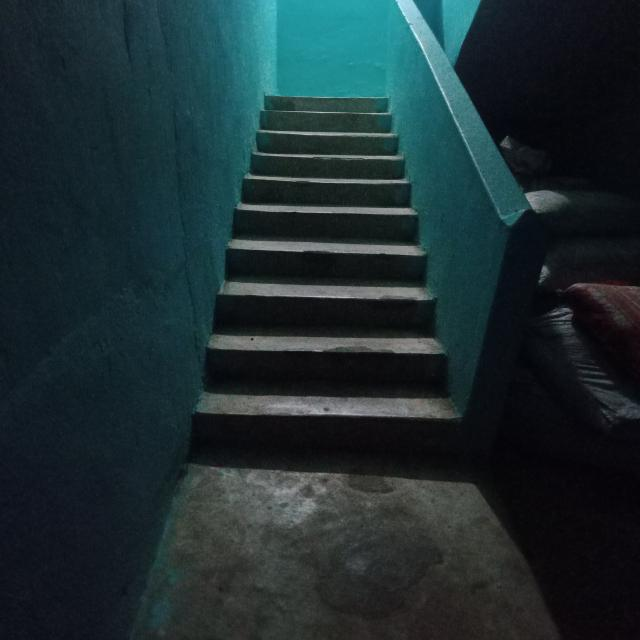Stairs: (210, 59, 490, 460)
